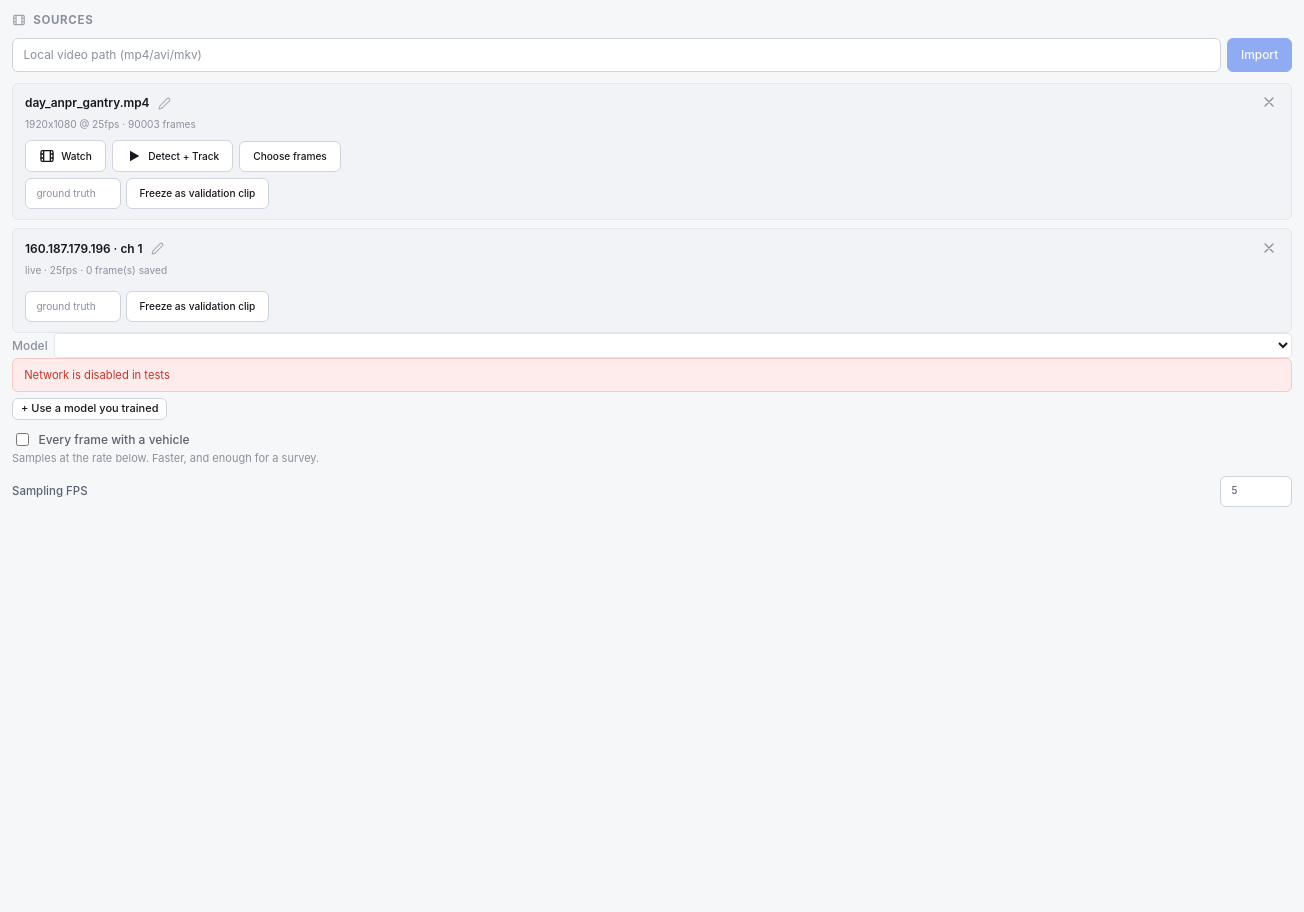
it: SourcePanel: removing a source › removes the source and drops it from the list
Expected: the button "day_anpr_gantry.mp4" is shown, [25,94,150,112]
Step 1. Click the button named "Remove day_anpr_gantry.mp4" → click(1269, 102), box [1254,91,1284,113]
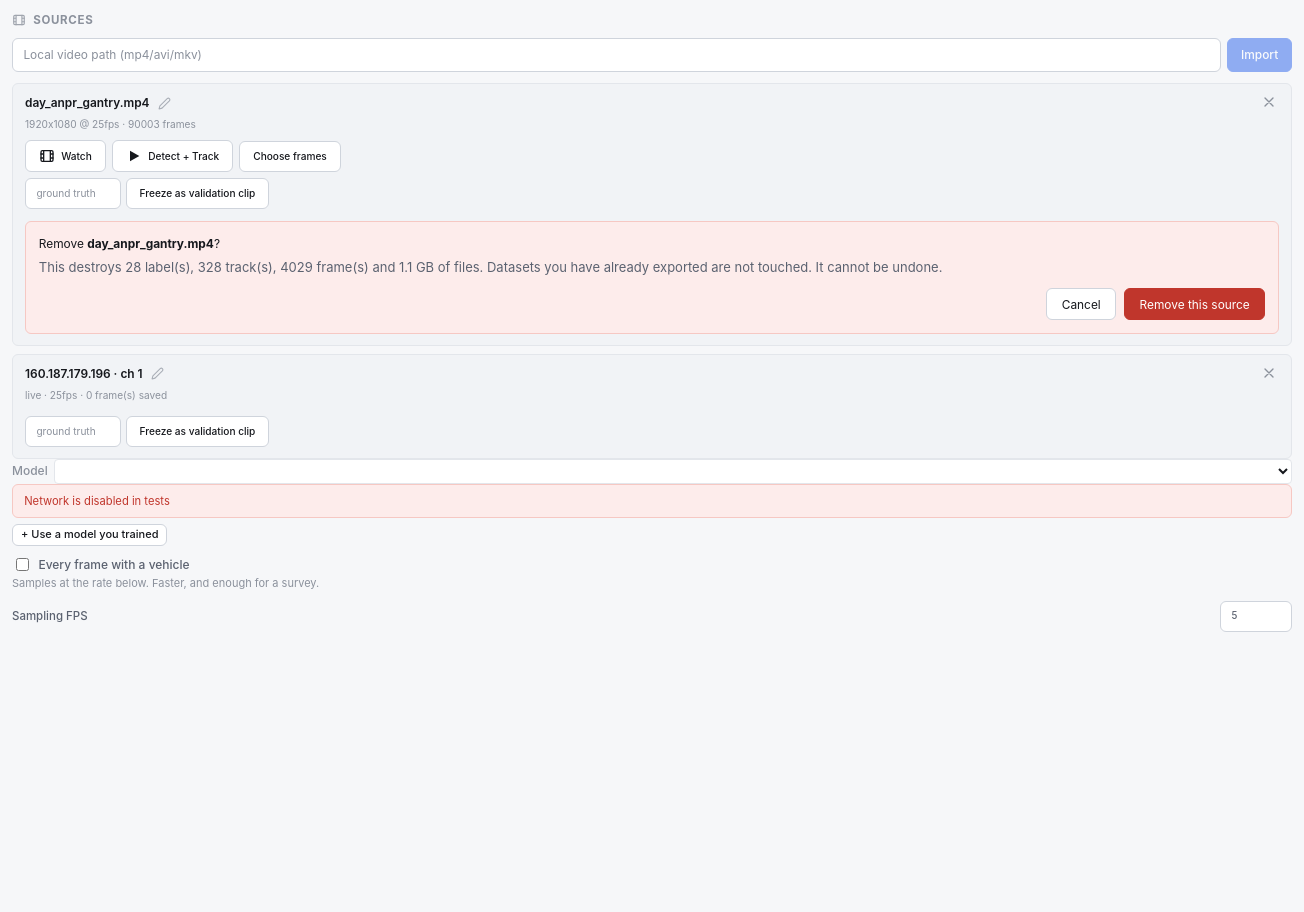
Step 2. Click the button "Remove this source" → click(1195, 304), box [1124,288,1265,320]
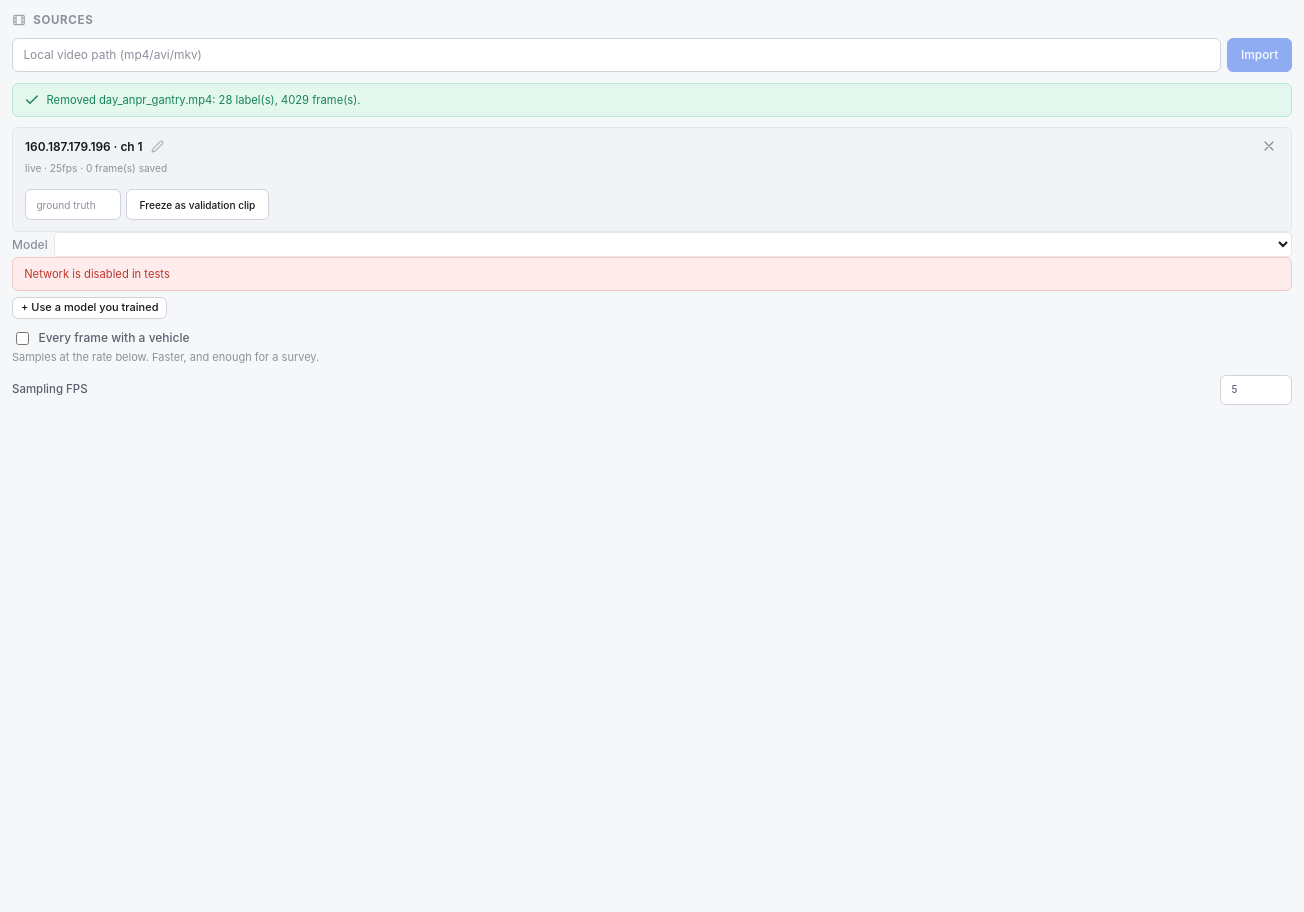
Expected: the button "Remove day_anpr_gantry.mp4" is gone
Expected: the number of buttons with test id "remove-source" is 1, [1254,135,1284,157]
